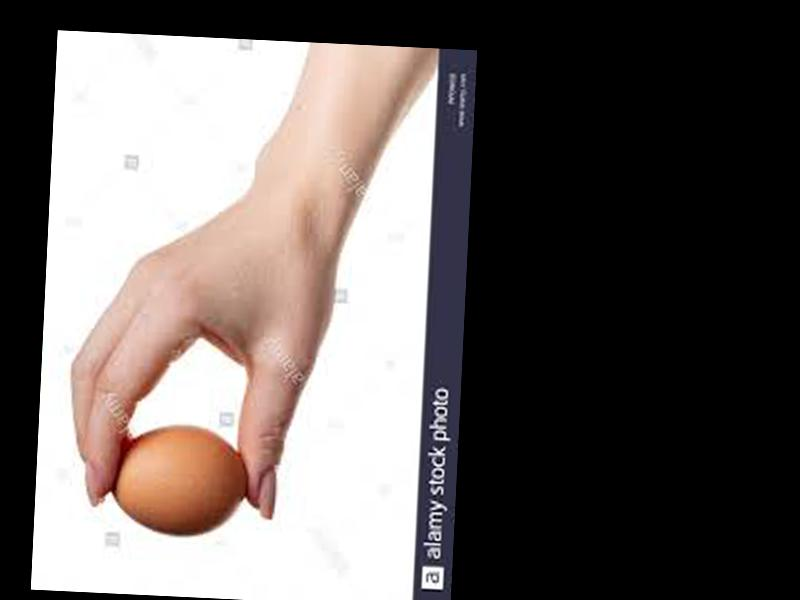Eggs: (110, 417, 249, 540)
